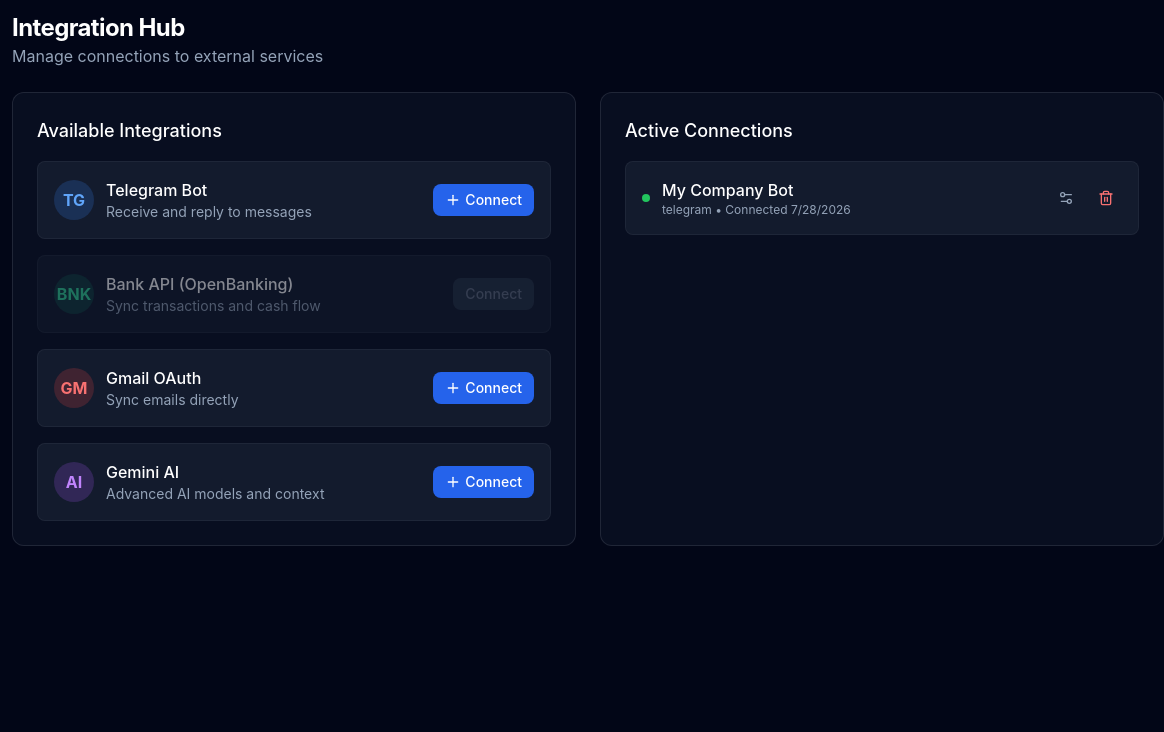
Test: IntegrationsPage › renders connections and handles demo mode locks
Expected: the heading "Integration Hub" is shown, [12,13,185,42]
Expected: the text "My Company Bot" is shown, [662,180,793,200]
Note: Click connect button
Click the button "Connect" next to "Receive and reply to messages" at [484, 200], box [433,184,534,216]
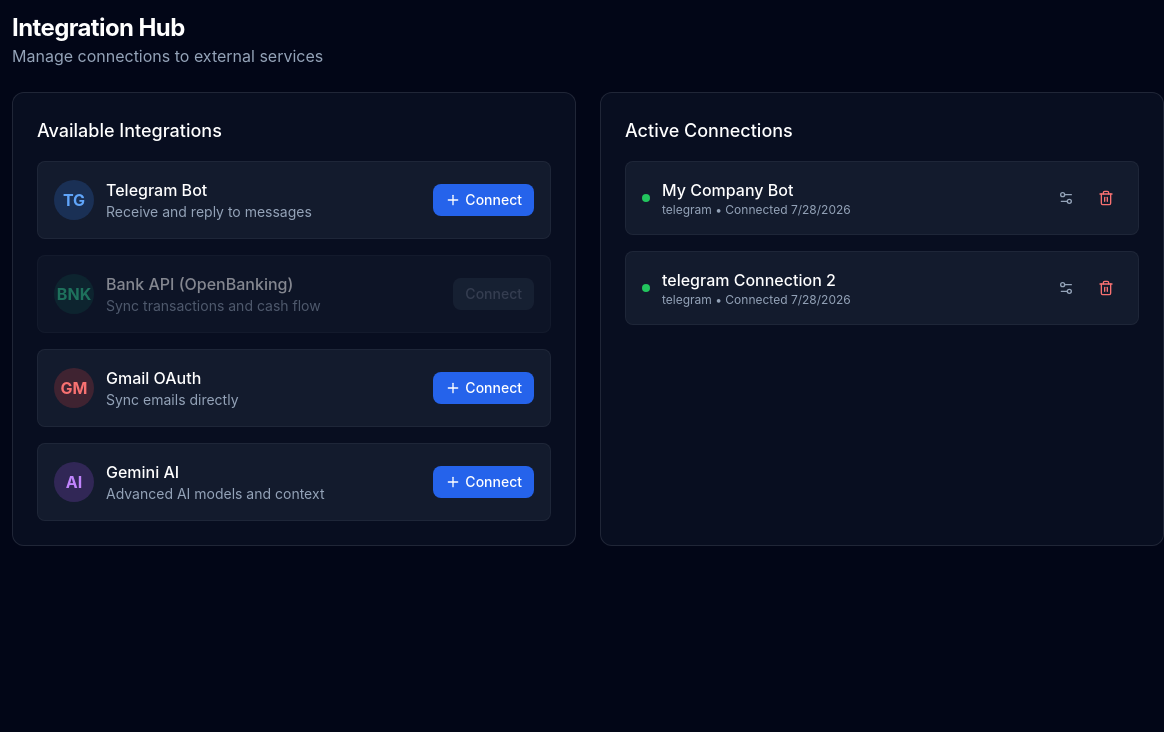
Expected: the text "telegram Connection 2" is shown, [662,268,851,292]
